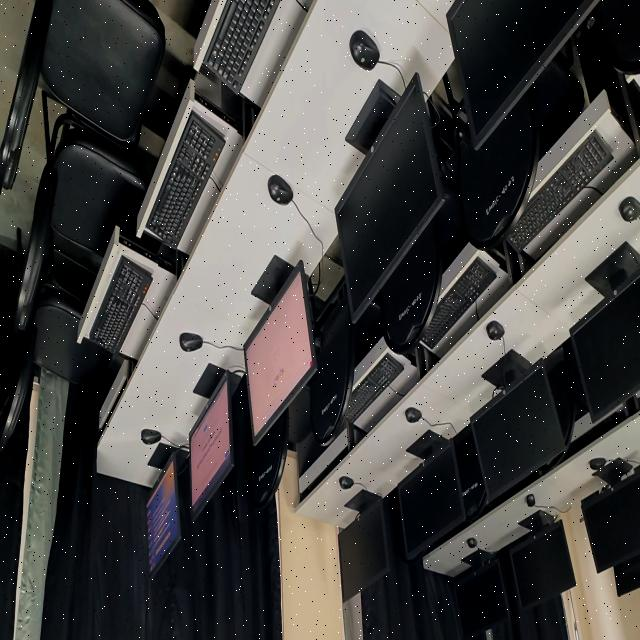Chair: (0, 0, 165, 193), (14, 128, 148, 331), (0, 279, 106, 451), (459, 94, 537, 250), (374, 213, 443, 355), (308, 280, 355, 445), (249, 409, 289, 509), (592, 0, 640, 75), (454, 425, 486, 518), (546, 348, 574, 447)
Cpu: (574, 19, 632, 139)
Keyboard: (505, 131, 613, 250), (147, 111, 225, 249), (202, 0, 281, 94), (421, 257, 496, 350), (89, 257, 152, 353), (345, 353, 404, 424)
Monitor: (335, 73, 451, 321), (447, 0, 601, 149), (563, 249, 640, 424), (470, 361, 566, 501), (244, 261, 317, 442), (396, 442, 465, 561), (189, 372, 239, 519), (508, 522, 576, 608), (581, 475, 640, 572), (338, 502, 389, 602), (146, 451, 185, 578), (455, 560, 509, 639), (613, 554, 640, 596)
Mouse: (350, 30, 380, 70), (268, 175, 293, 205), (619, 197, 640, 222), (179, 333, 203, 352), (486, 321, 504, 341), (141, 429, 162, 446), (405, 408, 422, 423), (589, 458, 606, 471), (339, 476, 354, 490), (526, 494, 535, 507), (467, 538, 477, 548)
